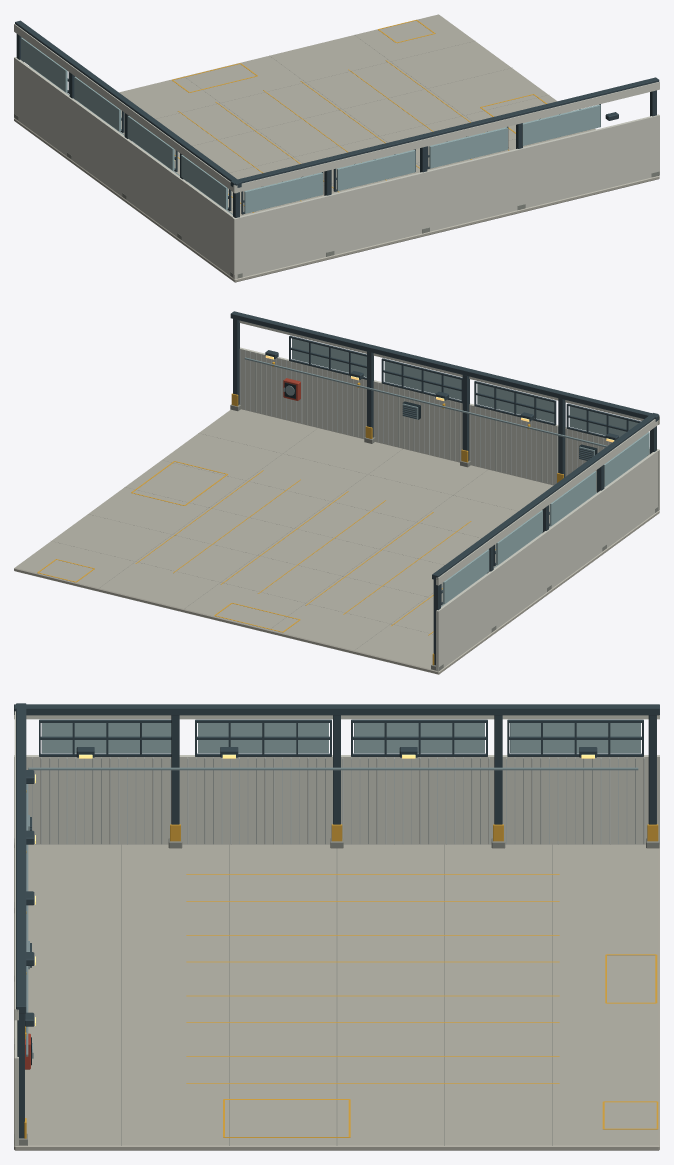
Rendered from environment.glb.
3 views of the same model, one above another, from view 1: azimuth 30°, elevation 25°; view 2: azimuth 150°, elevation 25°; view 3: azimuth 270°, elevation 25° (orthographic). The views are drawn at different scales.
Visible parts, largest first — view 1: environment__material_01, environment__material_08, environment__material_04, environment__material_02, environment__material_00, environment__material_05; view 2: environment__material_08, environment__material_01, environment__material_02, environment__material_04, environment__material_10, environment__material_00, environment__material_05, environment__material_03; view 3: environment__material_08, environment__material_01, environment__material_02, environment__material_04, environment__material_10, environment__material_00, environment__material_03, environment__material_05.
Part boxes in pixels (left/top/right/bottom): environment__material_01: left=14, top=24, right=659, bottom=279; environment__material_08: left=14, top=14, right=659, bottom=282; environment__material_04: left=21, top=37, right=600, bottom=213; environment__material_02: left=15, top=20, right=659, bottom=217; environment__material_00: left=172, top=20, right=546, bottom=212; environment__material_05: left=14, top=35, right=659, bottom=278; environment__material_08: left=14, top=409, right=659, bottom=674; environment__material_01: left=239, top=320, right=659, bottom=671; environment__material_02: left=230, top=311, right=659, bottom=665; environment__material_04: left=292, top=338, right=649, bottom=603; environment__material_10: left=240, top=349, right=649, bottom=484; environment__material_00: left=37, top=362, right=563, bottom=665; environment__material_05: left=51, top=404, right=658, bottom=670; environment__material_03: left=244, top=357, right=646, bottom=606; environment__material_08: left=14, top=844, right=659, bottom=1150; environment__material_01: left=14, top=711, right=659, bottom=1145; environment__material_02: left=14, top=703, right=659, bottom=1138; environment__material_04: left=41, top=723, right=640, bottom=753; environment__material_10: left=32, top=757, right=644, bottom=844; environment__material_00: left=24, top=790, right=658, bottom=1138; environment__material_03: left=26, top=767, right=638, bottom=1058; environment__material_05: left=14, top=838, right=659, bottom=1145.
Size of the model in its own units: 20 by 4.45 by 18.
